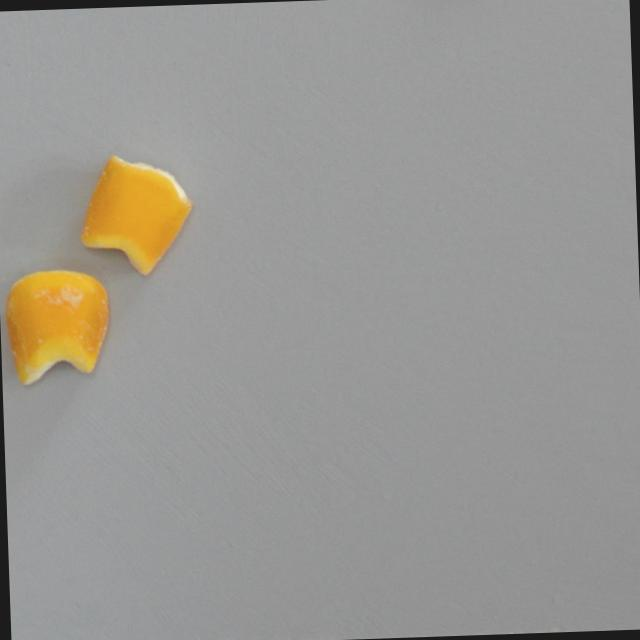no_canjicado: (75, 145, 198, 278)
pelicula: (1, 266, 115, 387)
